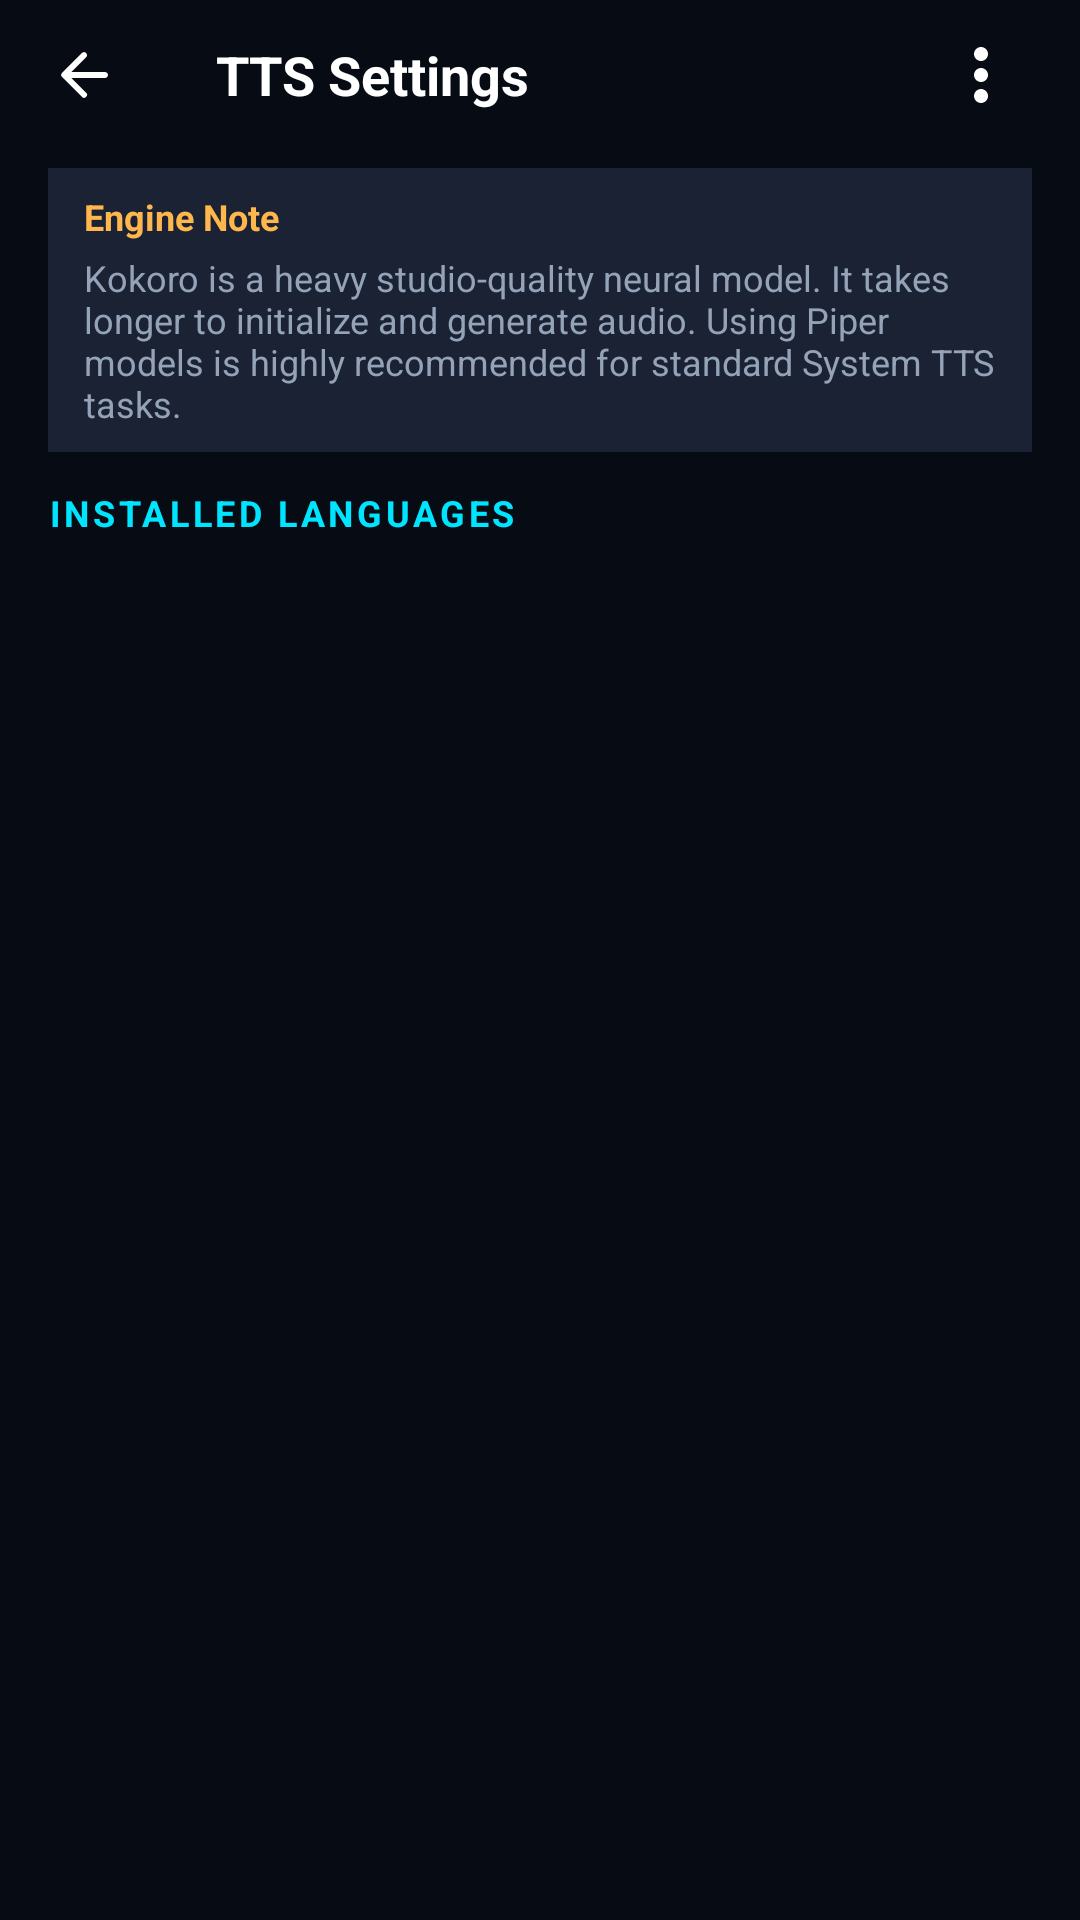

Locate icon controls on the screen. Image size 1080w x 1920h, boxes as (x1, y1, x2, y2).
arrow back: (61, 52, 108, 98)
more vert: (974, 47, 988, 103)
